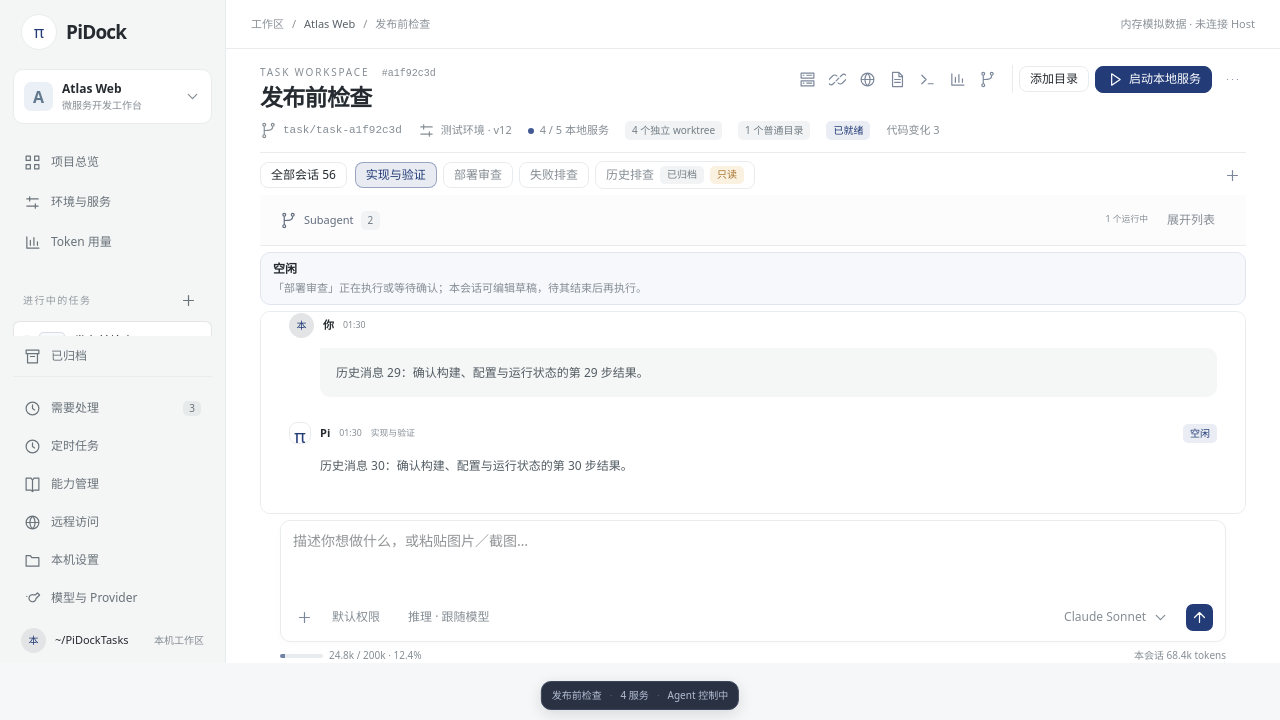
shell sidebar groups › switches the workspace from the card so the lists and page data follow
(page scrolled)
Expected: the heading "发布前检查" is shown, [260, 81, 372, 113]
Click the button with aria-label "切换工作区：Atlas Web". click: (112, 96)
box: [13, 69, 212, 124]
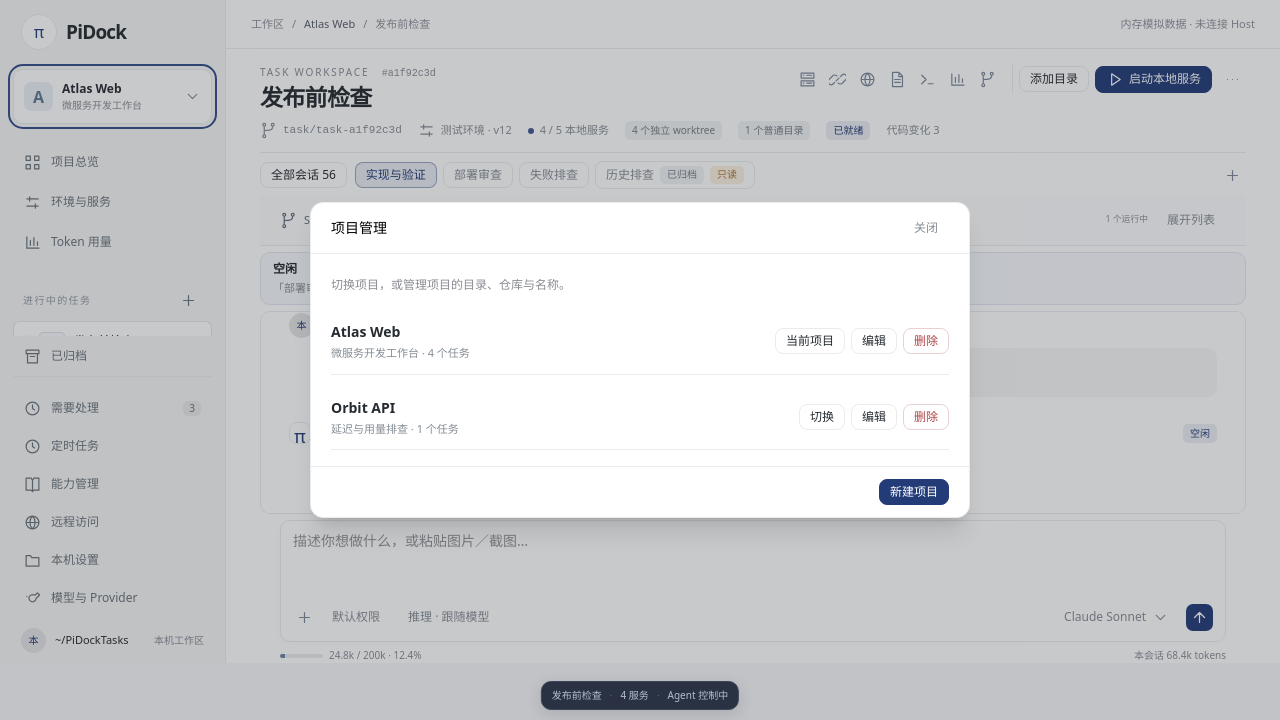
Click the button "切换". click: (822, 417)
box: [799, 404, 845, 430]
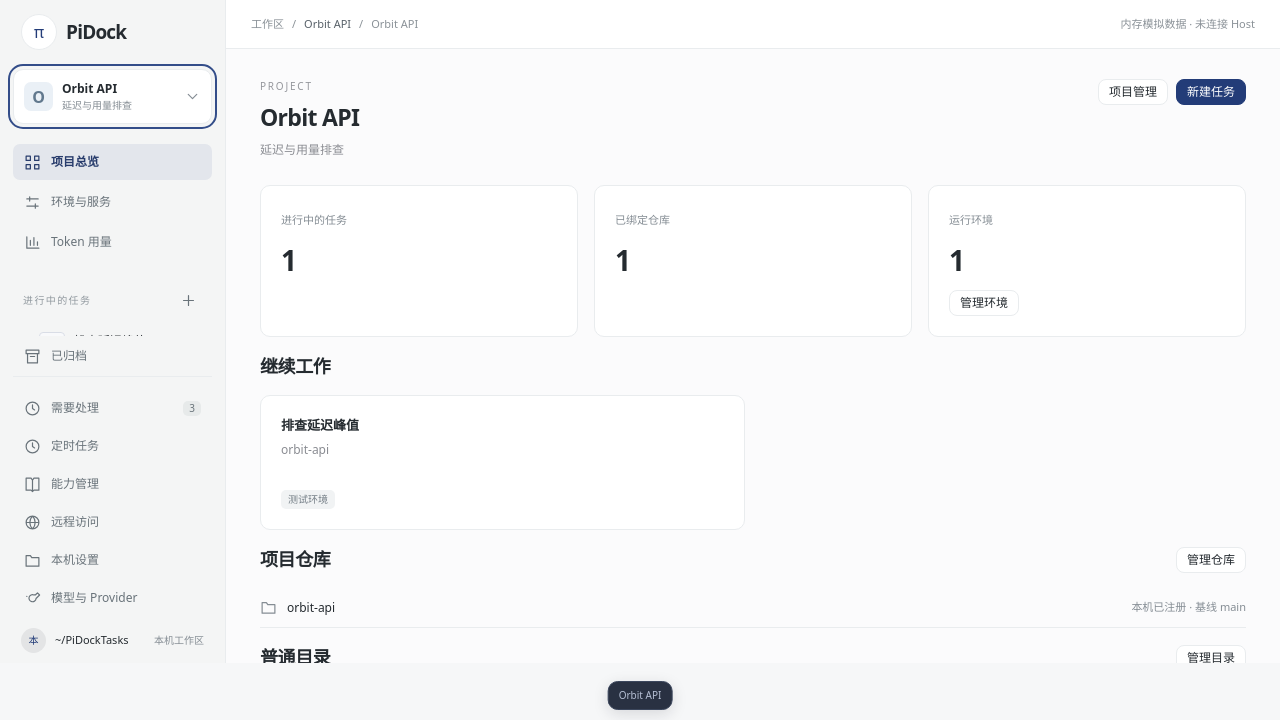
Expected: the heading "Orbit API" is shown, [260, 100, 359, 134]
Expected: the button "发布前检查" is gone
Expected: the button with aria-label "切换工作区：Orbit API" is shown, [13, 69, 212, 124]
